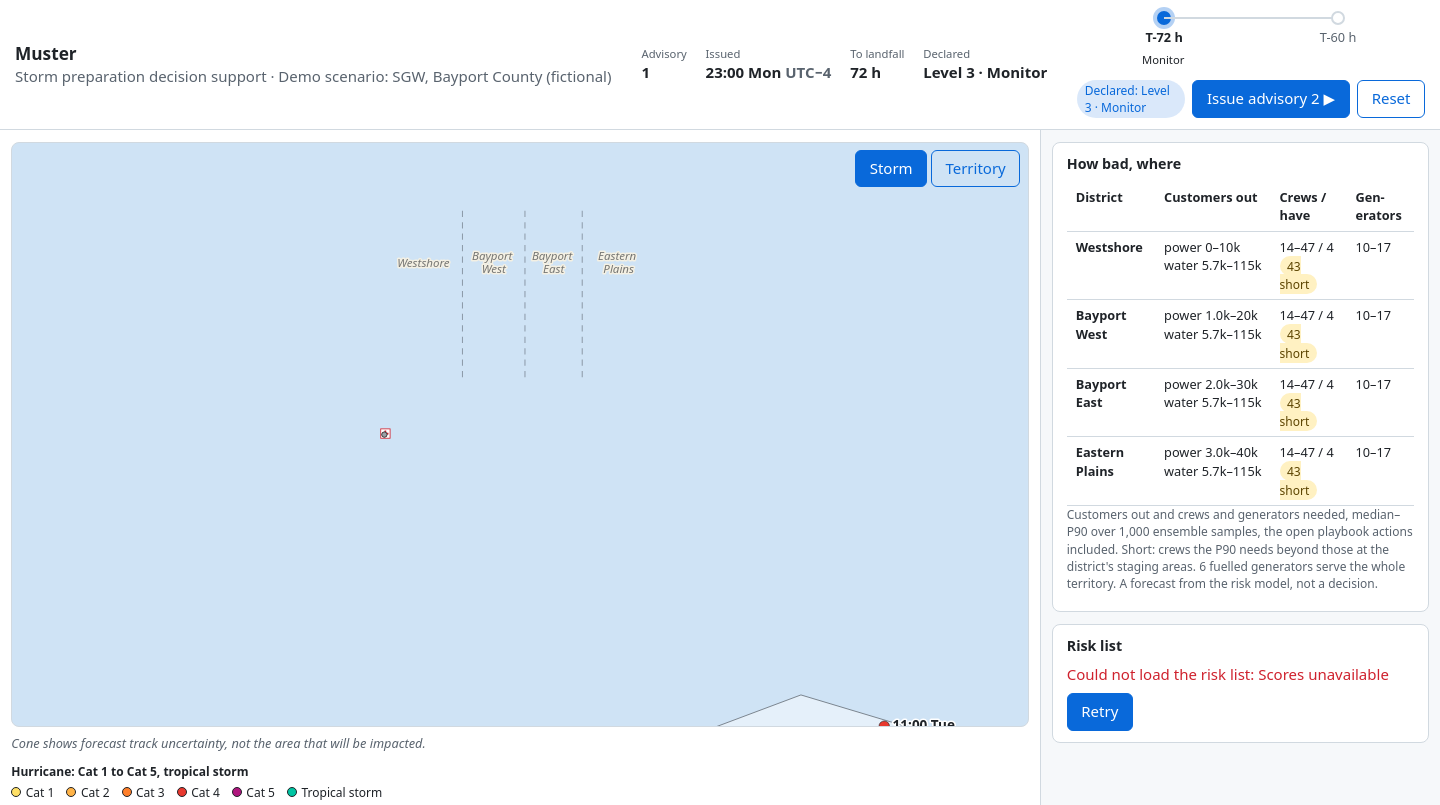
Test: a failed risk list shows the error with a retry
Check: the text "Could not load the risk list: Scores unavailable" is shown, box [1067,664,1414,686]
Click the button "Retry" at (1100, 712), box [1067,693,1133,731]
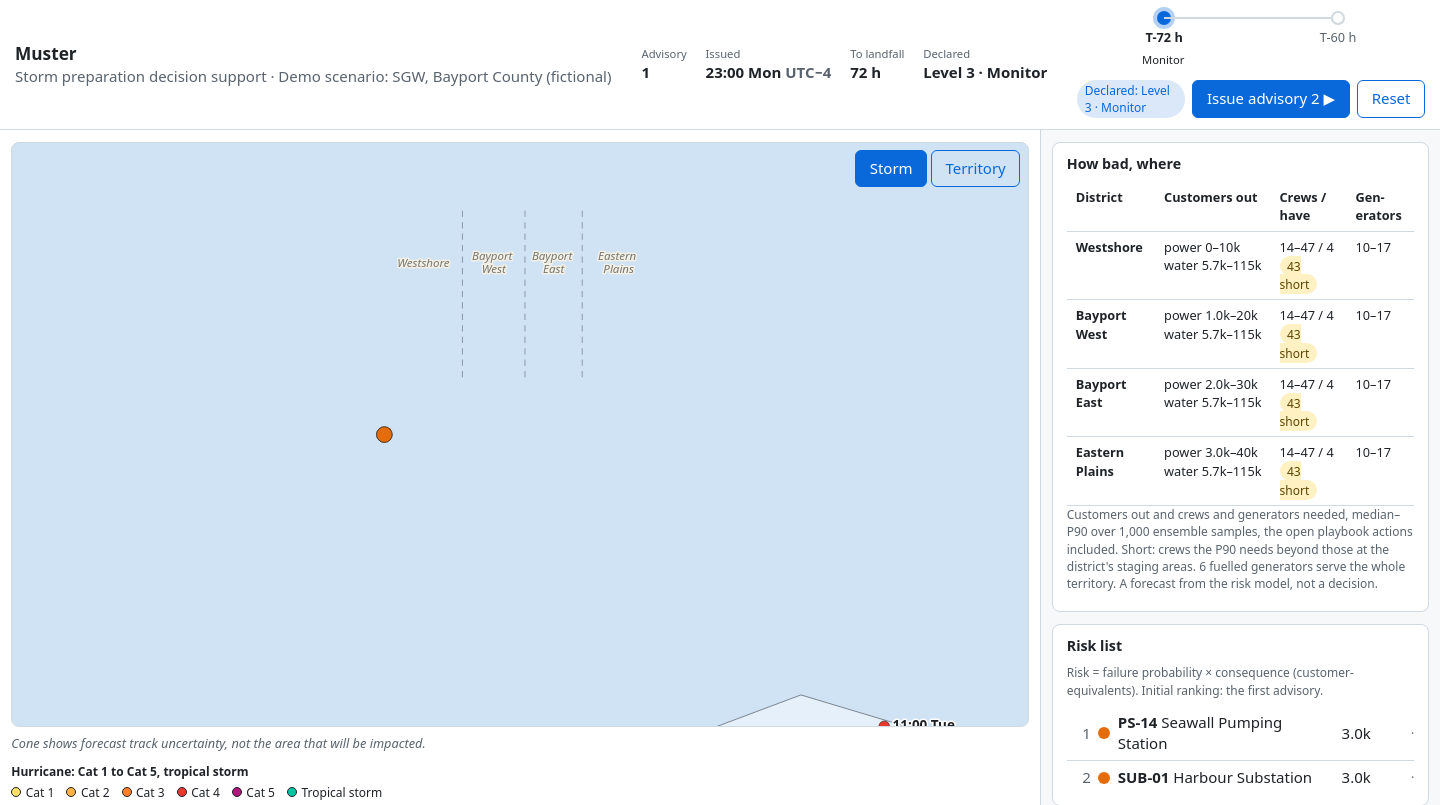
Check: the button "1 PS-14 Seawall Pumping Station 3.0k ·" is shown, box [1067,706,1414,760]
